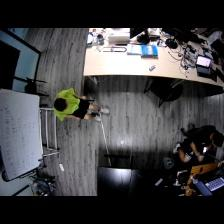normal: (54, 89, 113, 125), (173, 125, 224, 162)
